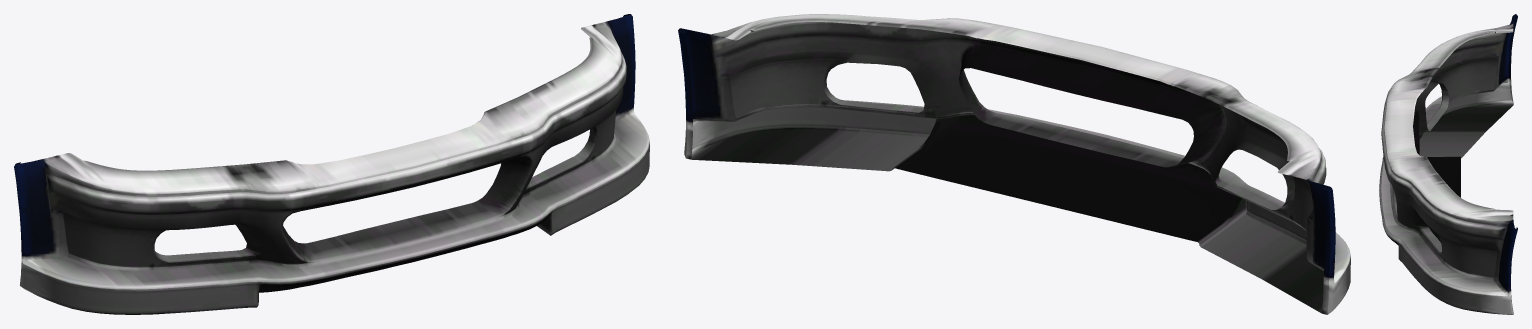
File: bmw_front.fbx
The picture shows the model from 3 angles, left to right: view 1: azimuth 30°, elevation 25°; view 2: azimuth 150°, elevation 25°; view 3: azimuth 270°, elevation 25°; orthographic projection. The views are drawn at different scales.
Visible parts, largest first — view 1: BUMPER_FRONT_SUB0_CarPaint_0; view 2: BUMPER_FRONT_SUB0_CarPaint_0; view 3: BUMPER_FRONT_SUB0_CarPaint_0.
Boxes of the visible parts, bbox=[...] form: BUMPER_FRONT_SUB0_CarPaint_0: bbox=[14, 14, 649, 314]; BUMPER_FRONT_SUB0_CarPaint_0: bbox=[678, 14, 1350, 314]; BUMPER_FRONT_SUB0_CarPaint_0: bbox=[1379, 14, 1517, 314].
Size of the model in its own units: 189 by 36.4 by 51.27.
